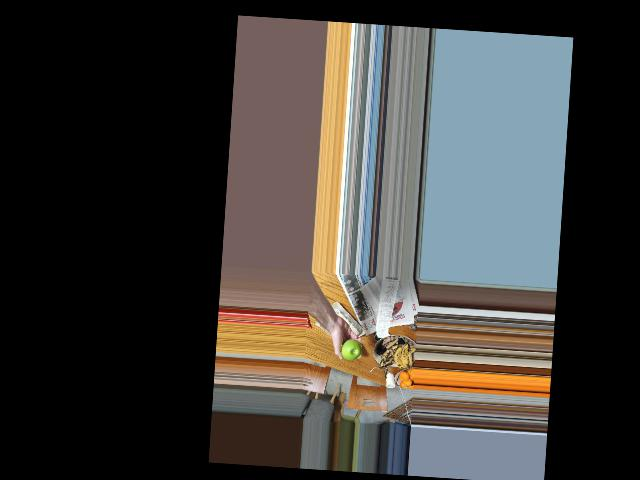apple: (338, 335, 364, 365)
